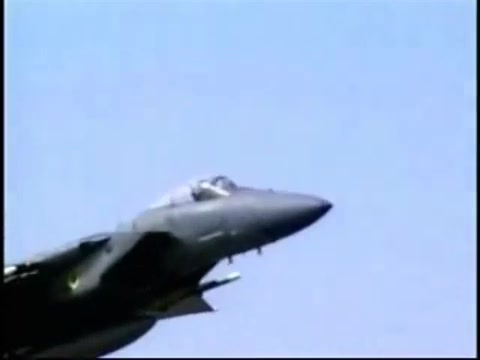aeroplane: (3, 176, 334, 358)
